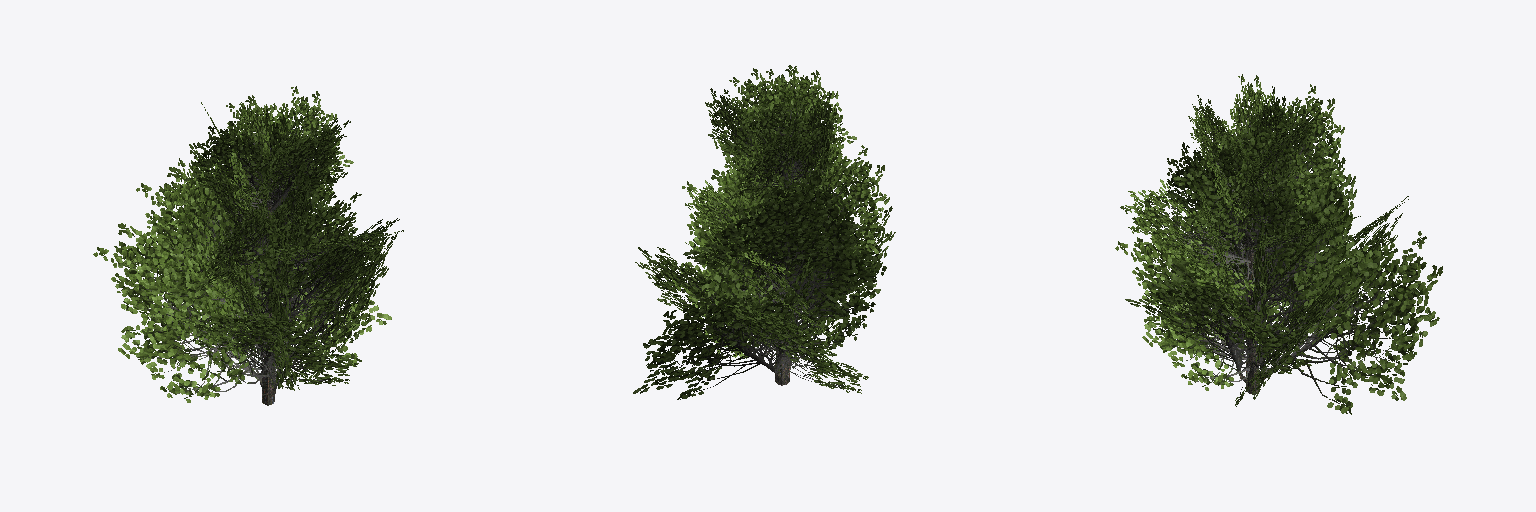
3 views of the same model, side by side, from view 1: azimuth 30°, elevation 25°; view 2: azimuth 150°, elevation 25°; view 3: azimuth 270°, elevation 25° (orthographic).
Parts seen in each view (by area): view 1: Default; view 2: Default; view 3: Default.
Part boxes in pixels (bbox=[...]): Default: bbox=[93, 86, 403, 405]; Default: bbox=[633, 65, 895, 399]; Default: bbox=[1115, 74, 1442, 414].
Bounding box in the file's own units: 5.47 × 5.53 × 5.79.
Materials: 2 (2 with a texture image).